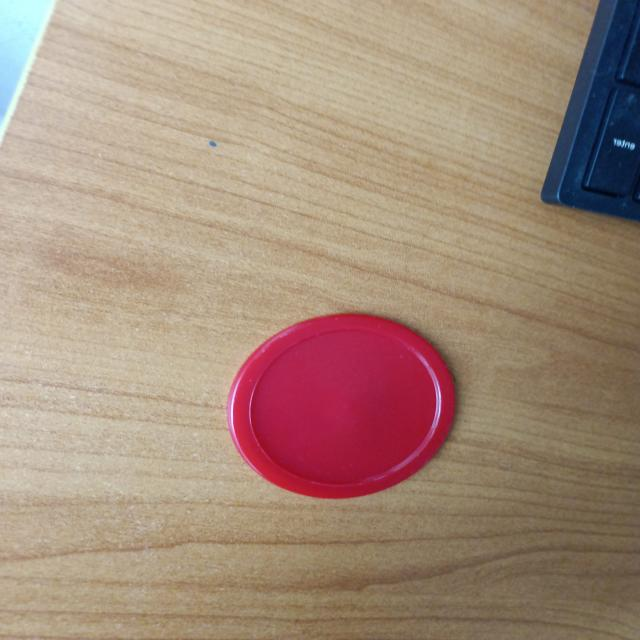chip: (222, 314, 460, 501)
